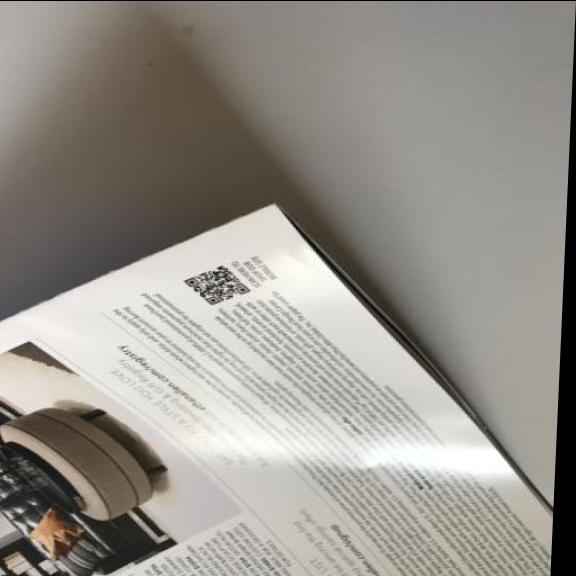Kertas: (0, 194, 567, 574)
